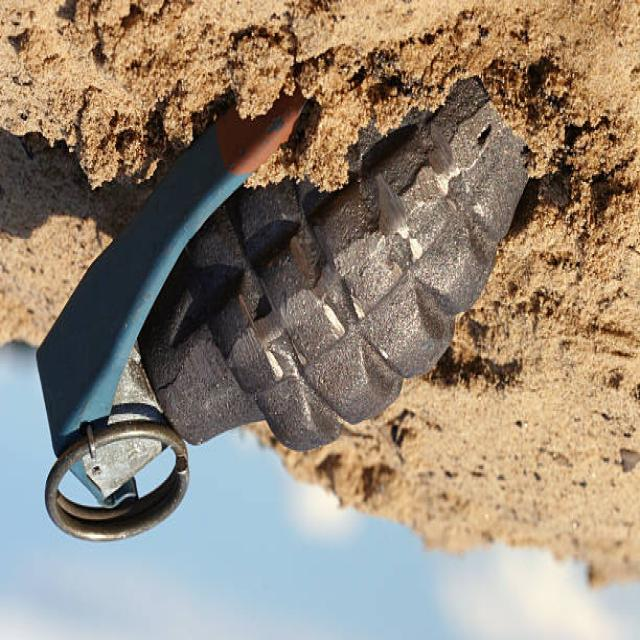grenade: (31, 72, 541, 547)
